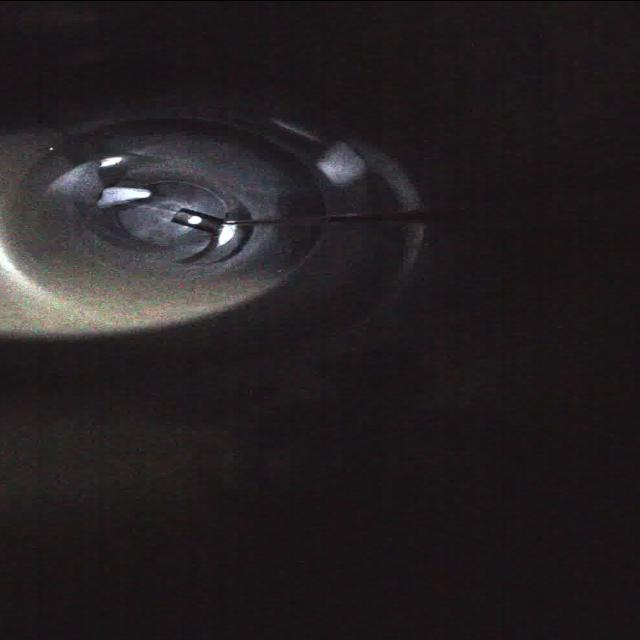impurity: (86, 180, 154, 212)
